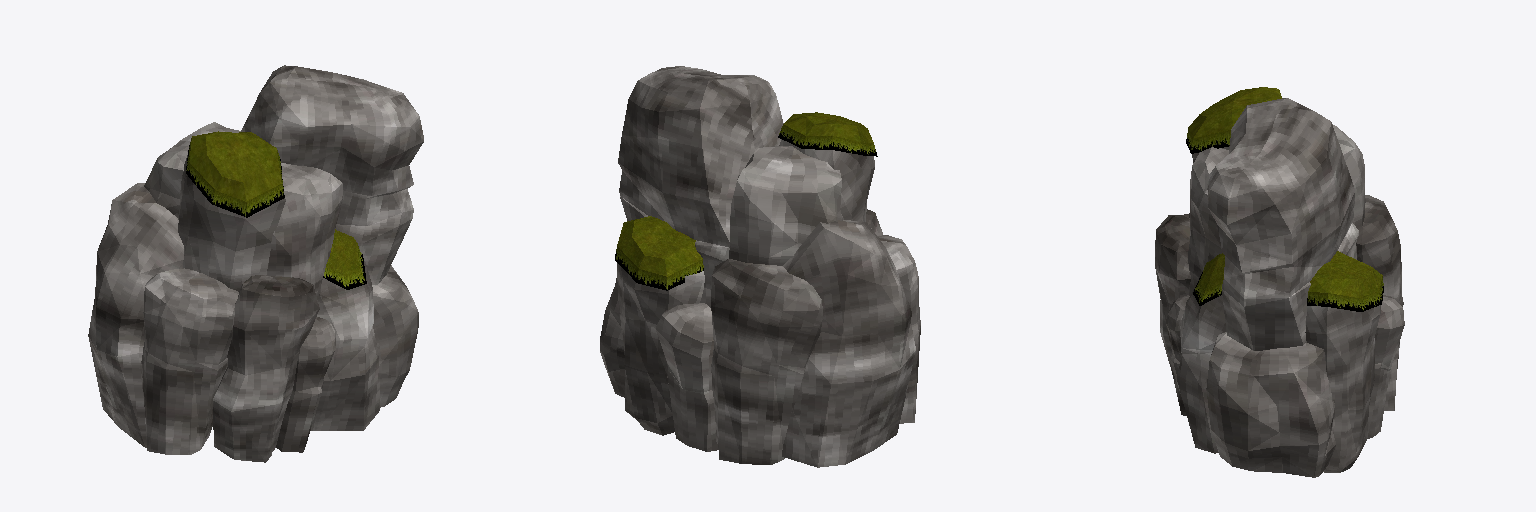
The picture shows the model from 3 angles: view 1: azimuth 30°, elevation 25°; view 2: azimuth 150°, elevation 25°; view 3: azimuth 270°, elevation 25°; orthographic projection.
Size of the model in its own units: 13.85 by 15.16 by 10.04.
Materials: 3 (1 with a texture image).